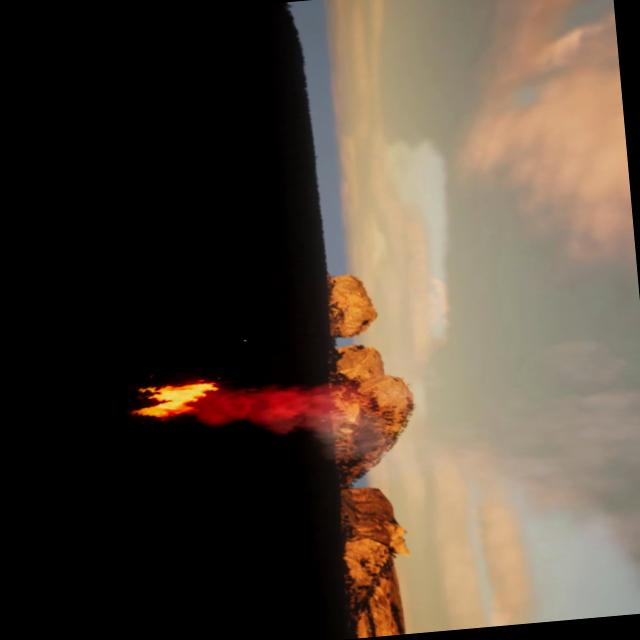fire: (133, 374, 225, 422)
smoke: (201, 374, 396, 464)
